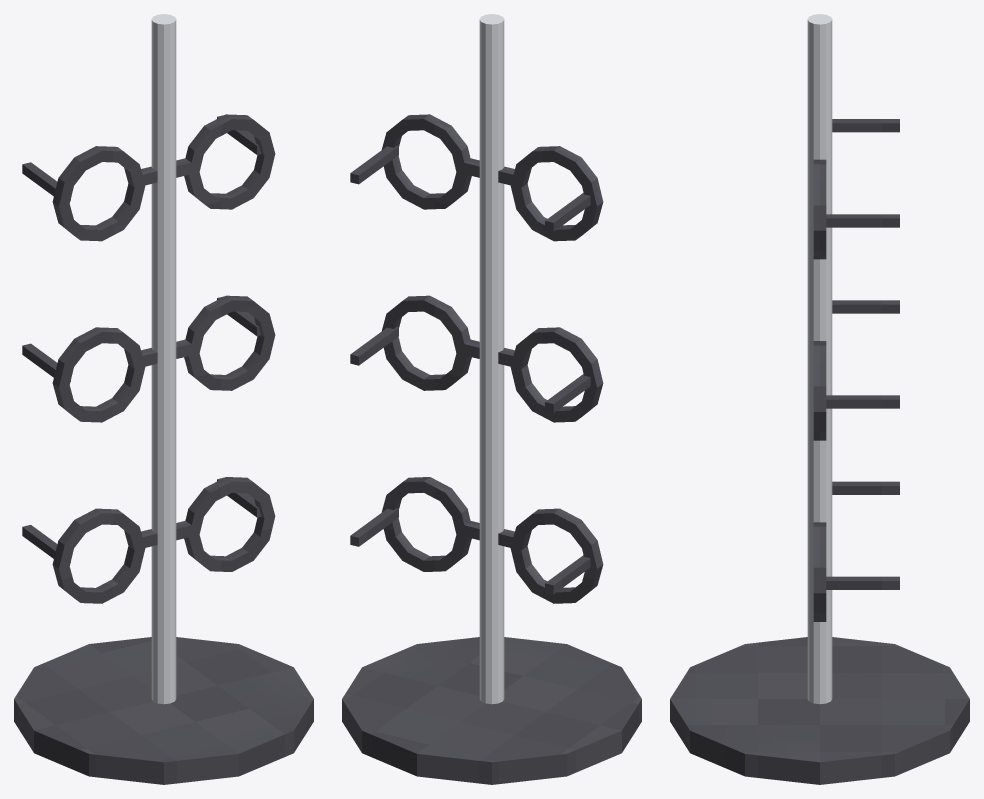
File: retro-arcade-and-mall-1989-sunglasses-spinner-c3dea0bd__15537.glb
3 renders of one model, left to right at view 1: azimuth 30°, elevation 25°; view 2: azimuth 150°, elevation 25°; view 3: azimuth 270°, elevation 25°, orthographic.
Parts seen in each view (by area): view 1: sunglasses-spinner; view 2: sunglasses-spinner; view 3: sunglasses-spinner.
Part boxes in pixels (bbox=[...]): sunglasses-spinner: bbox=[14, 14, 313, 784]; sunglasses-spinner: bbox=[342, 14, 641, 784]; sunglasses-spinner: bbox=[670, 14, 969, 784].
Bounding box in the file's own units: 0.5999 × 1.55 × 0.5999.
Materials: 2 (1 with a texture image).
